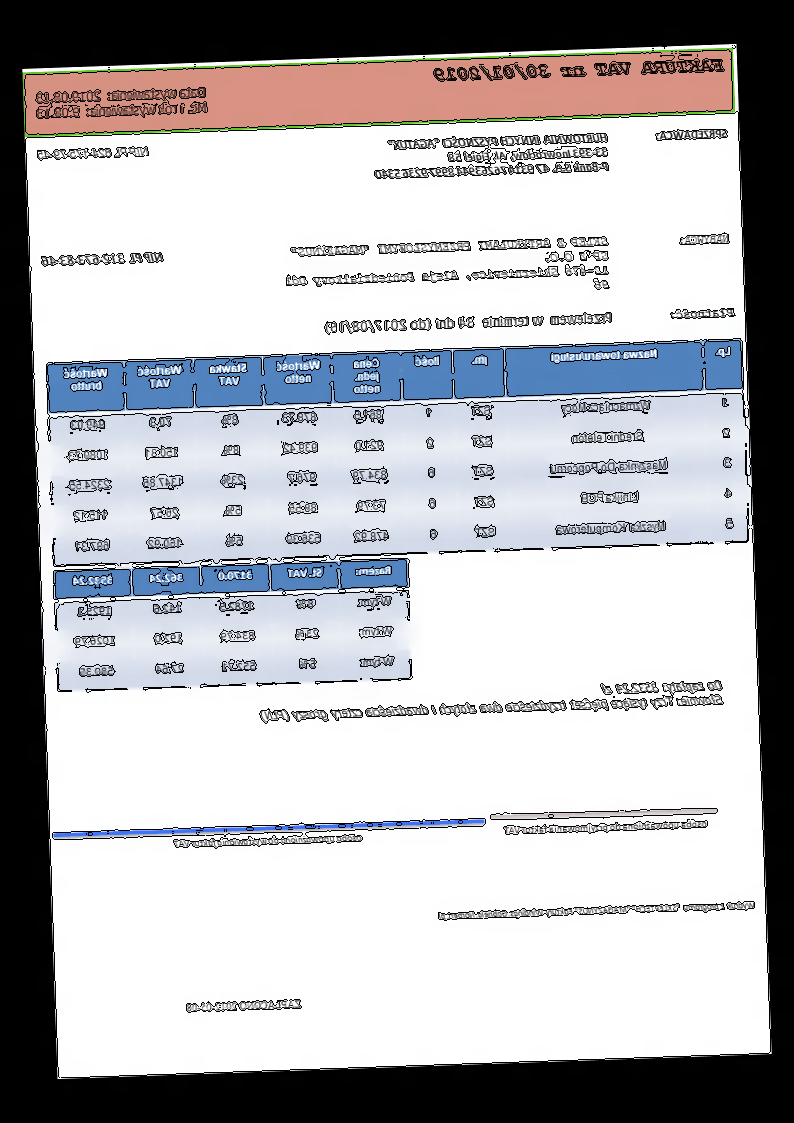Table: (45, 337, 750, 568), (52, 557, 413, 692), (258, 677, 725, 725)
TextBox: (281, 233, 614, 303), (372, 130, 611, 182), (433, 53, 727, 86), (436, 898, 758, 923), (324, 309, 615, 336), (34, 83, 210, 121), (503, 818, 711, 837), (172, 831, 365, 851), (40, 249, 167, 269), (36, 144, 152, 163), (185, 997, 303, 1013), (655, 126, 730, 143), (669, 304, 736, 322), (677, 231, 733, 246)
